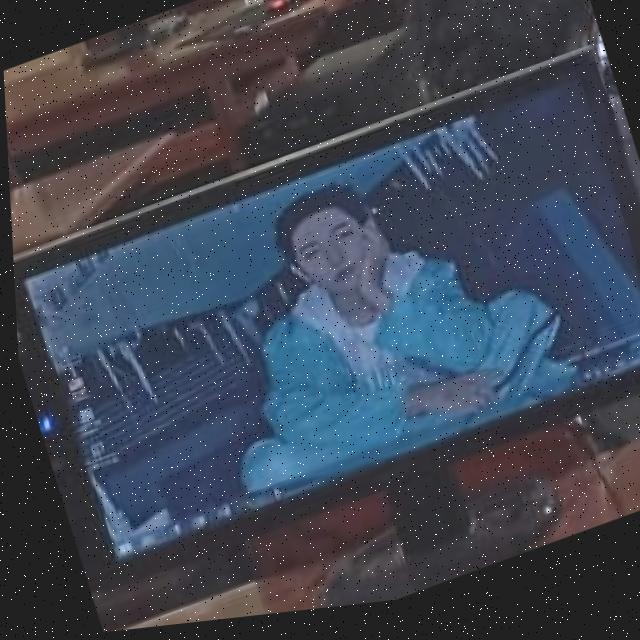onscreen: (11, 63, 640, 559)
